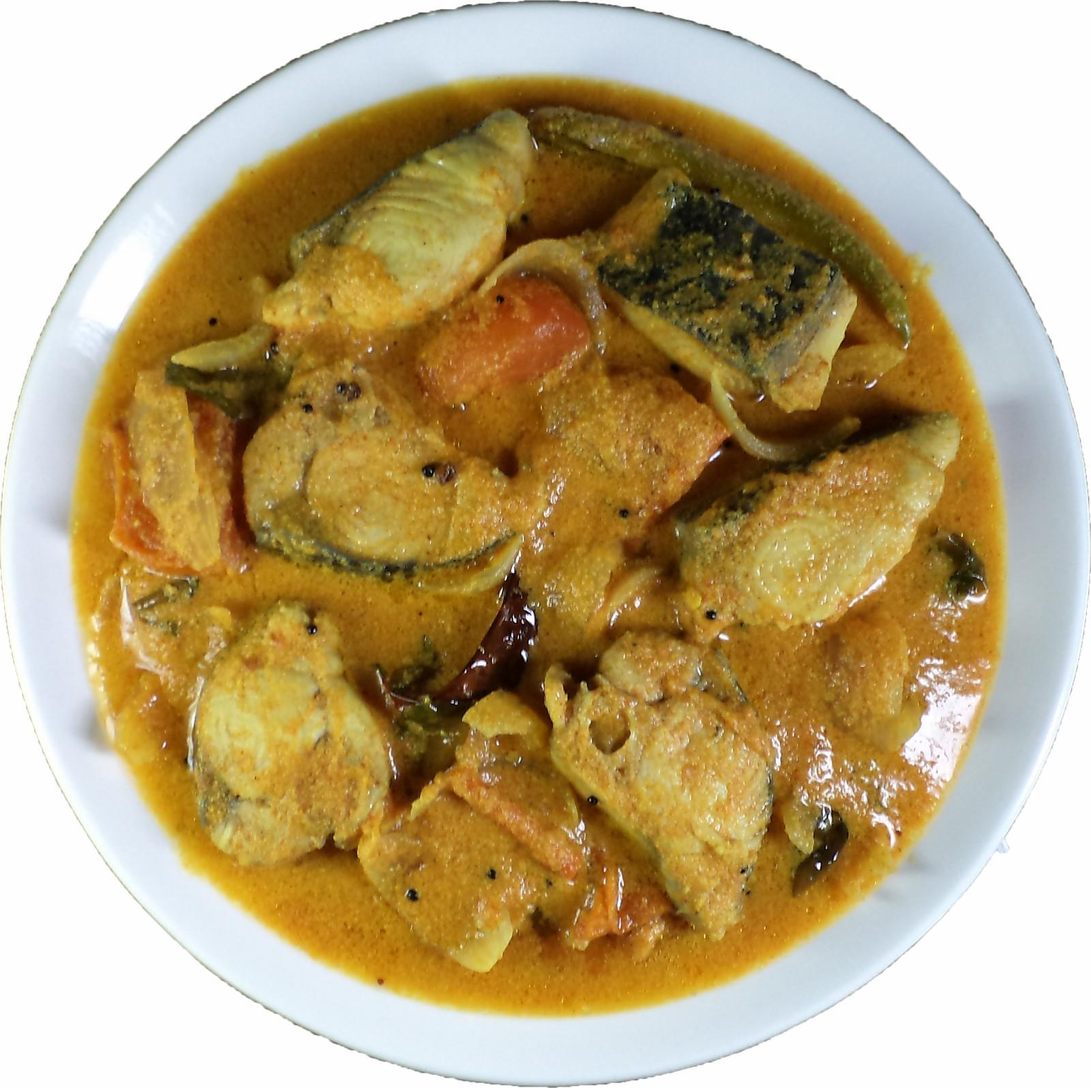FishCurry: (76, 79, 1003, 1017)
